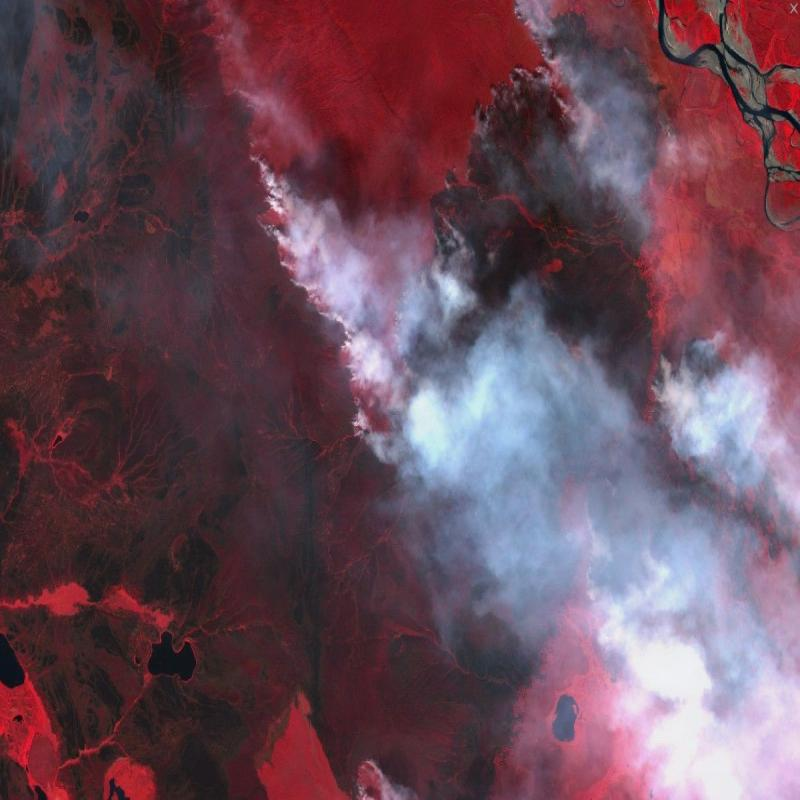fire: (190, 0, 800, 800)
